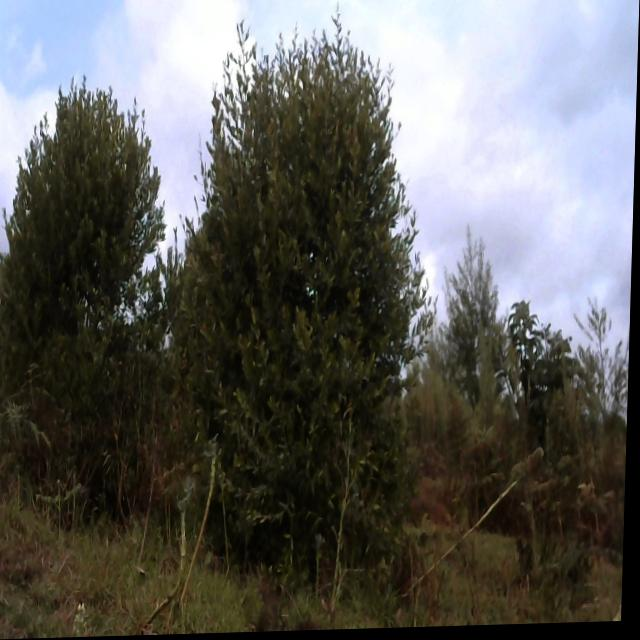Salix alba: (190, 8, 435, 577), (0, 60, 176, 519)
